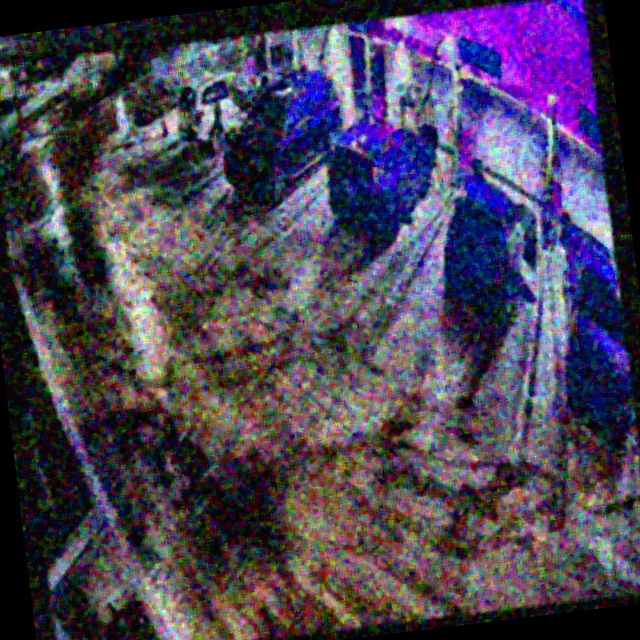Car: (214, 69, 353, 205), (431, 168, 547, 326), (322, 112, 440, 252), (175, 60, 271, 153)
